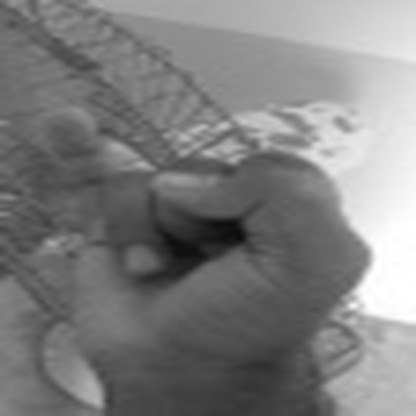i: (25, 93, 377, 373)
